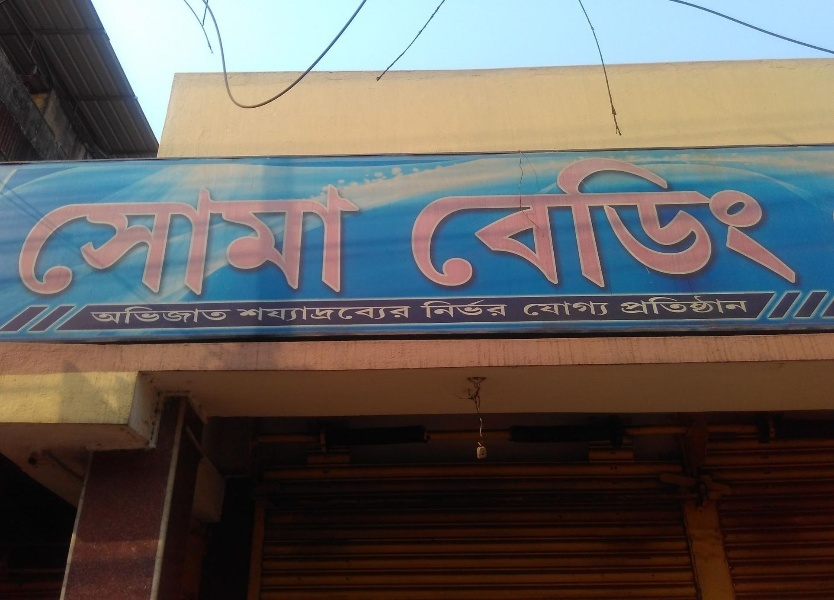text: (417, 149, 432, 296), (433, 149, 448, 296), (449, 149, 464, 296), (465, 149, 480, 296), (481, 149, 496, 296), (497, 149, 512, 296), (513, 149, 528, 296), (529, 149, 544, 296), (545, 149, 560, 296), (561, 149, 576, 296), (577, 149, 592, 296), (593, 149, 608, 296), (609, 149, 624, 296), (625, 149, 640, 296), (641, 149, 656, 296), (657, 149, 672, 296), (673, 149, 688, 296), (689, 149, 704, 296), (705, 149, 720, 296), (721, 149, 736, 296), (737, 149, 752, 296), (753, 149, 768, 296), (769, 149, 784, 296), (785, 149, 800, 296), (17, 181, 32, 302), (33, 181, 48, 302), (49, 181, 64, 302), (65, 181, 80, 302), (81, 181, 96, 302), (97, 181, 112, 302), (113, 181, 128, 302), (129, 181, 144, 302), (145, 181, 160, 302), (161, 181, 176, 302), (177, 181, 192, 302), (193, 181, 208, 302), (209, 181, 224, 302), (225, 181, 240, 302), (241, 181, 256, 302), (257, 181, 272, 302), (273, 181, 288, 302), (289, 181, 304, 302), (305, 181, 320, 302), (321, 181, 336, 302), (337, 181, 352, 302), (353, 181, 368, 302), (409, 149, 416, 296), (801, 149, 807, 296), (369, 181, 372, 302), (97, 305, 112, 328), (113, 305, 128, 328), (129, 305, 144, 328), (145, 305, 160, 328), (161, 305, 176, 328), (177, 305, 192, 328), (193, 305, 208, 328), (209, 305, 224, 328), (241, 303, 256, 323), (257, 303, 272, 323), (273, 303, 288, 323), (289, 303, 304, 323), (305, 303, 320, 323), (321, 303, 336, 323), (337, 303, 352, 323), (353, 303, 368, 323), (369, 303, 384, 323), (385, 303, 400, 323), (625, 296, 640, 316), (641, 296, 656, 316), (657, 296, 672, 316), (673, 296, 688, 316), (689, 296, 704, 316), (705, 296, 720, 316), (721, 296, 736, 316), (433, 299, 448, 318), (449, 299, 464, 318), (465, 299, 480, 318), (481, 299, 496, 318), (401, 303, 415, 323), (529, 300, 544, 318), (545, 300, 560, 318), (561, 300, 576, 318), (577, 300, 592, 318), (593, 300, 608, 318), (737, 296, 749, 316), (420, 299, 432, 318), (497, 299, 509, 318), (225, 305, 234, 328), (90, 305, 96, 328), (234, 303, 240, 323), (525, 300, 528, 318), (622, 296, 624, 316), (609, 300, 611, 318)
